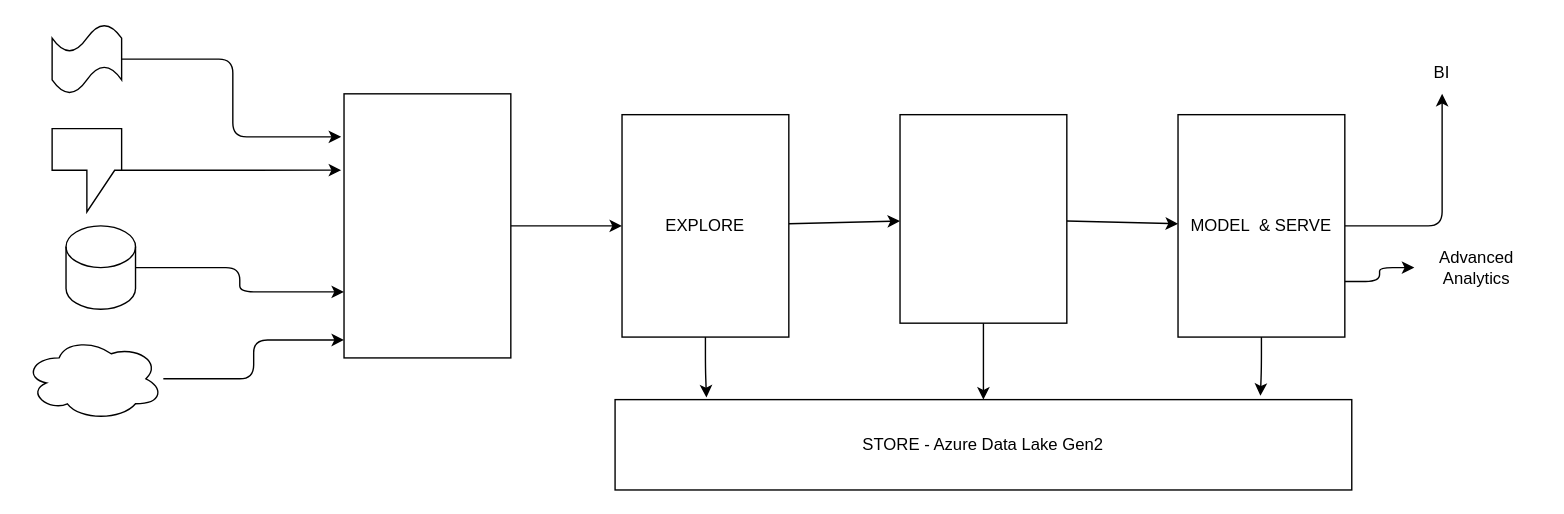
Image size: 1564x514. Some labels were removed from this diagram. Here are the shapes that lost their labels. From the top down, the centre of each, then its label:
At point (427, 225): "INGEST".
At point (983, 218): "PREP & TRAIN".
